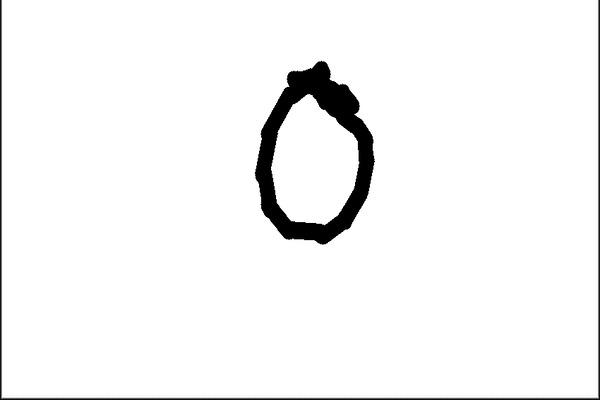O: (243, 53, 392, 251)
